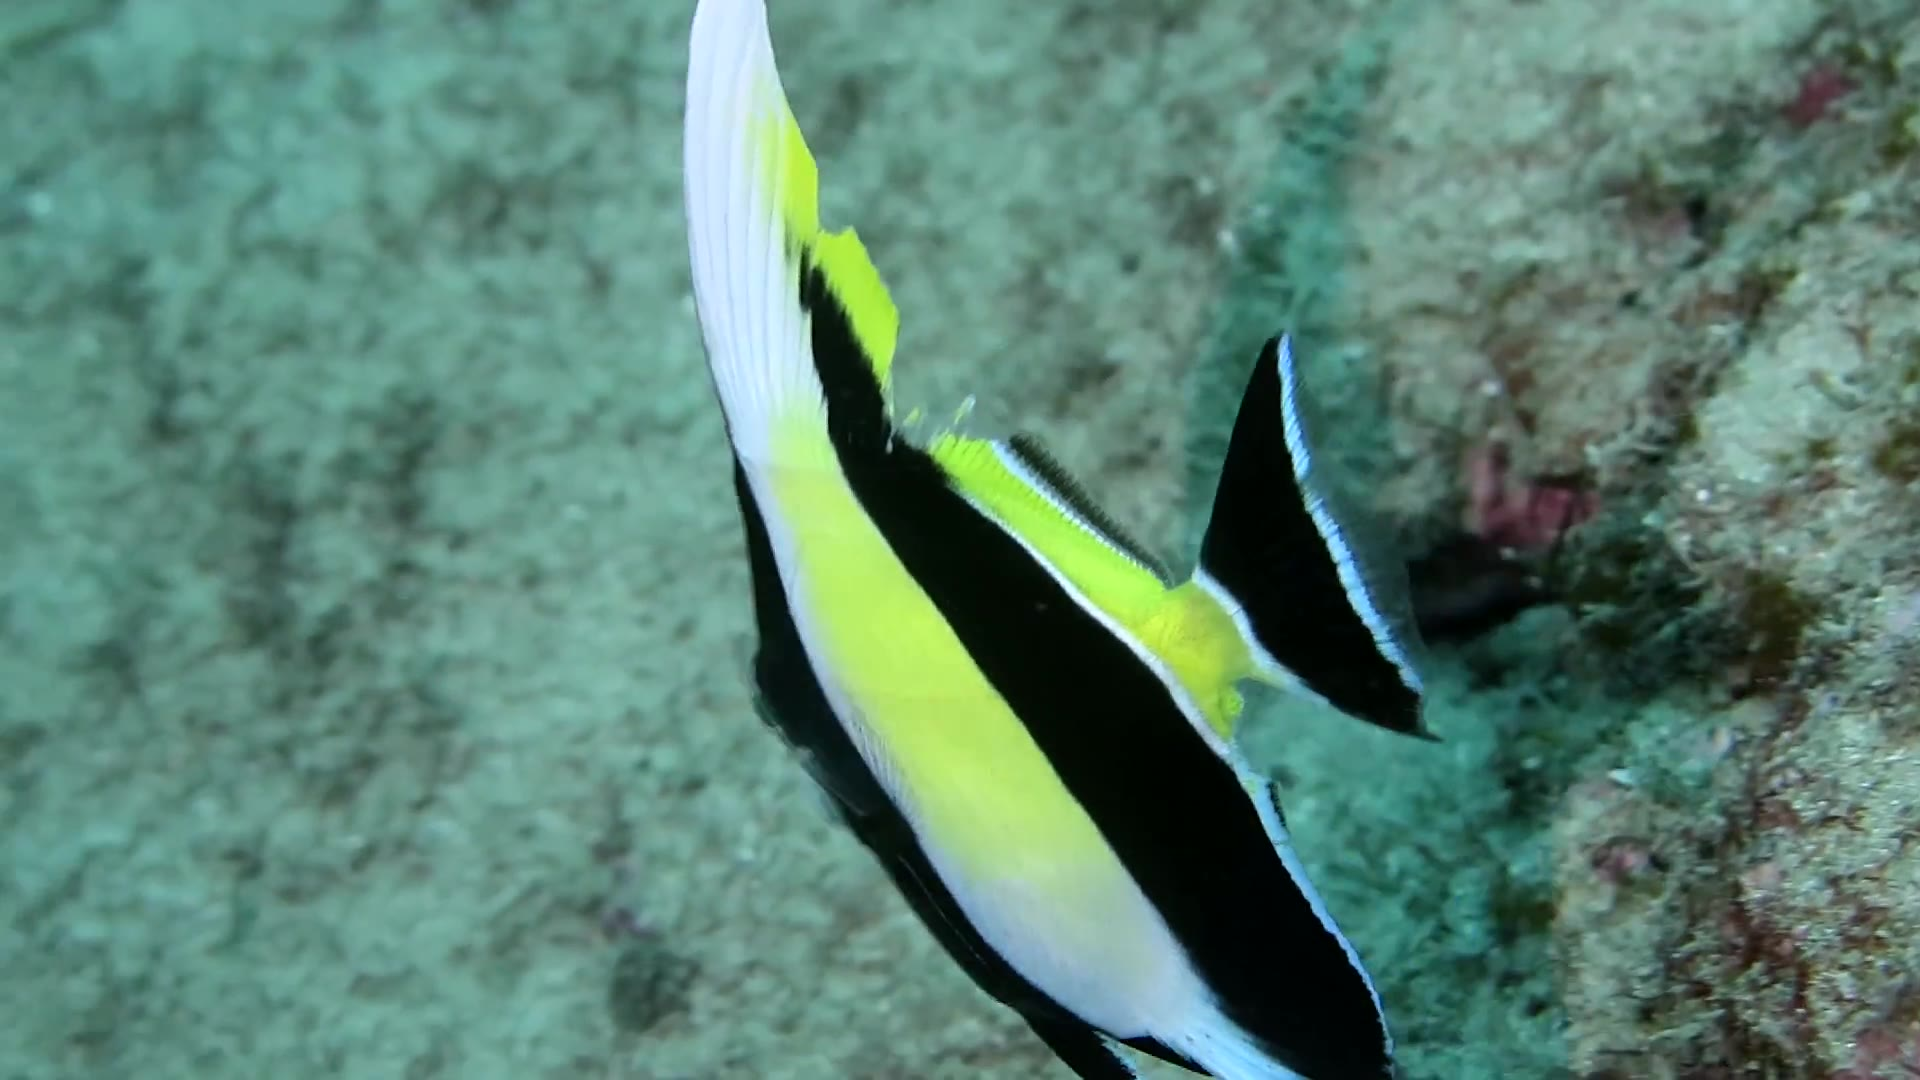Zanclus cornutus: (659, 169, 1439, 1071)
